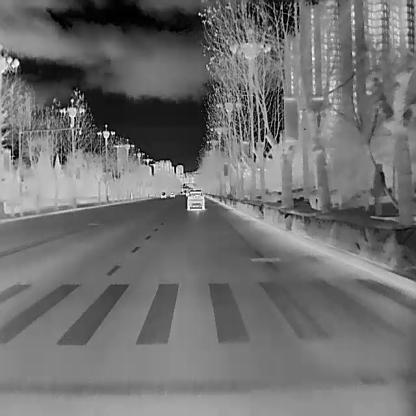car: (185, 190, 204, 211), (160, 191, 166, 198), (169, 191, 174, 198)
